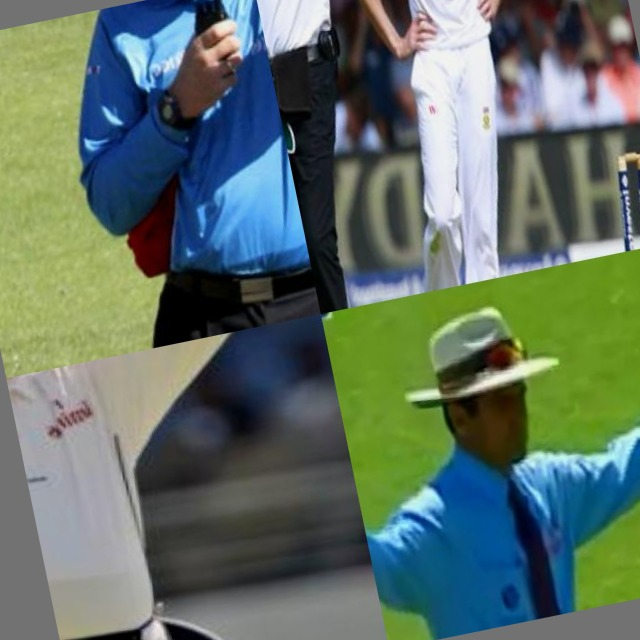No_Ball: (252, 0, 535, 314)
Out: (14, 0, 321, 363)
Six: (6, 314, 390, 640)
Wide: (321, 241, 640, 640)
